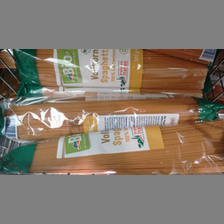pasta: (1, 122, 222, 172), (2, 97, 224, 139), (12, 48, 210, 90)
